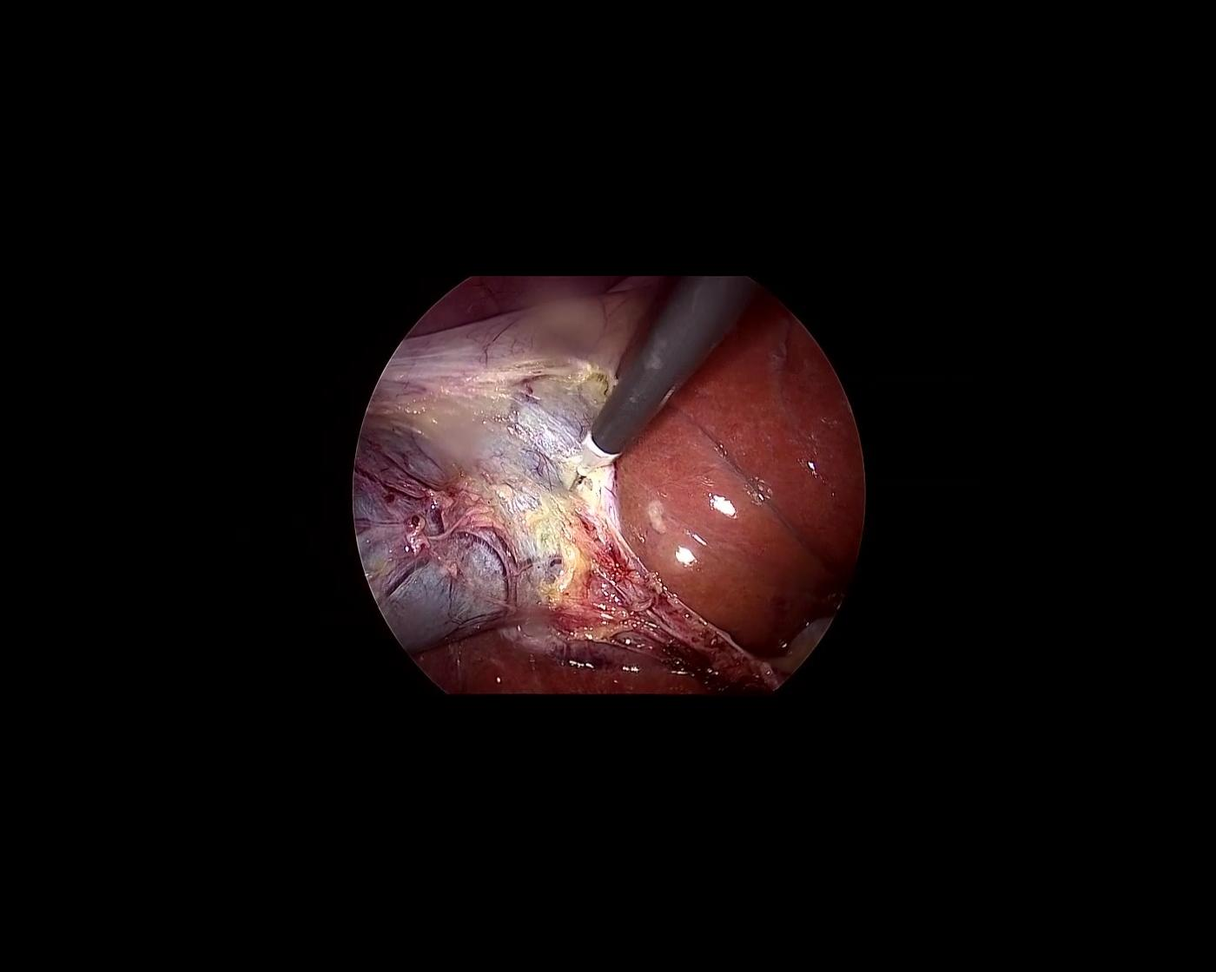Cautery: (528, 243, 762, 501)
Gallbladder: (297, 299, 624, 664)
Liver: (577, 289, 960, 676)
